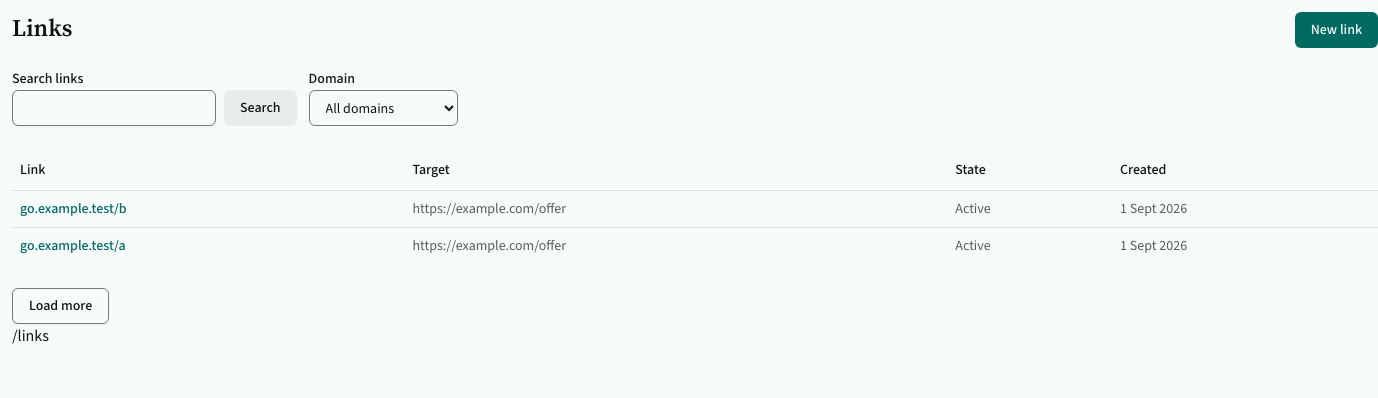
Test: the link list › loads the next page after the ones shown, keeps every earlier page loaded, and stops when there is none
This screenshot has width=1378, height=398.
Step 1. Click the button "Load more" → (61, 306), box [12,288,109,324]
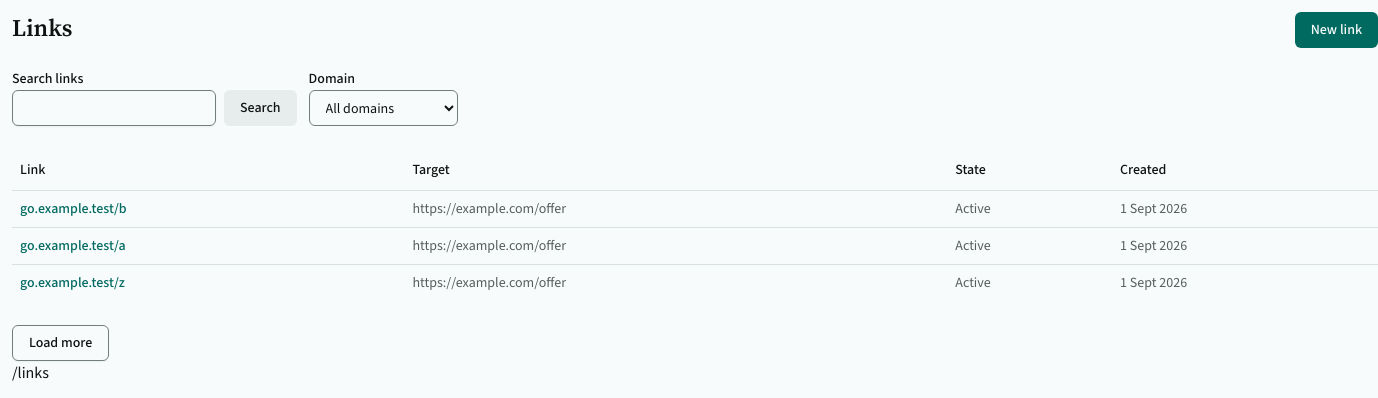
Expected: the link "go.example.test/b" is shown, [20,198,127,218]
Now the link "go.example.test/z" is shown, box [20,272,125,292]
Step 2. Click the button "Load more" → (61, 342), box [12,324,109,360]
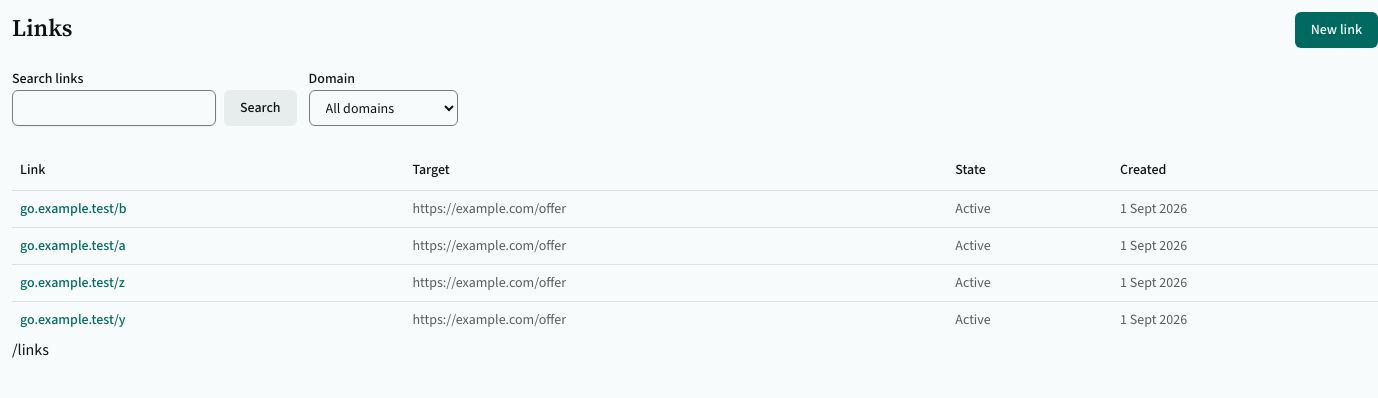
Now the link "go.example.test/z" is shown, box [20,272,125,292]
Now the link "go.example.test/y" is shown, box [20,310,126,328]
Now the button "Load more" is gone
